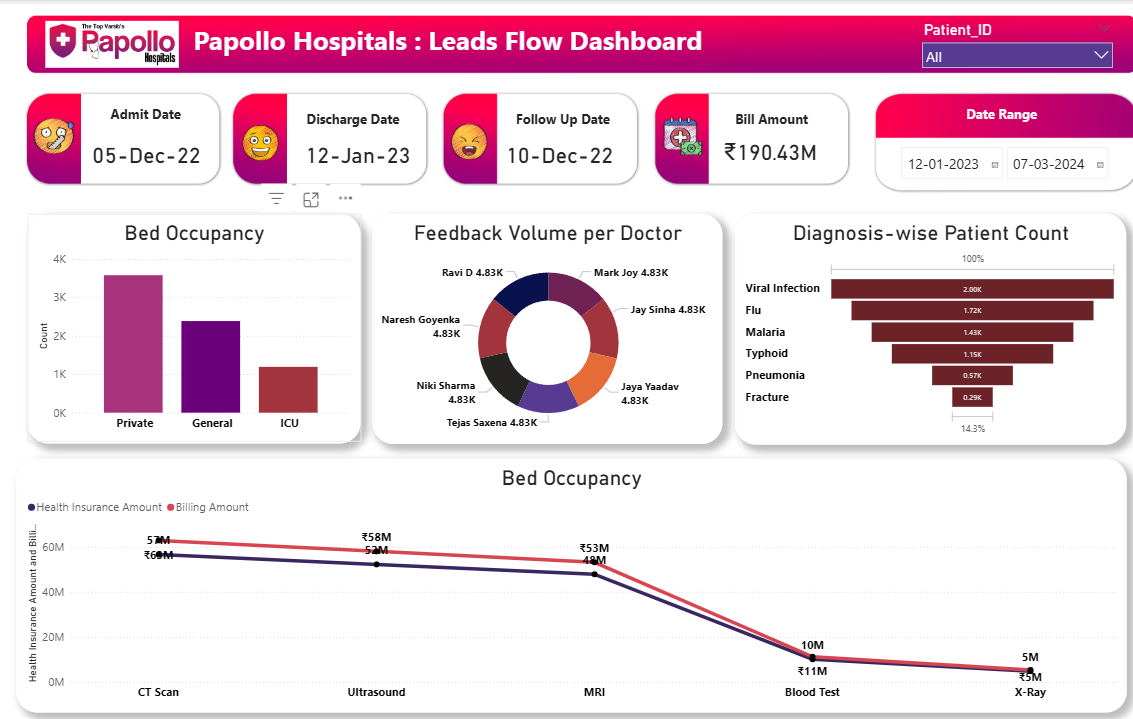

This screenshot's page, from the dashboard's own definition file:
{"tool":"powerbi","page":{"name":"Page 2","canvas":[1680,1050],"ordinal":0},"visuals":[{"type":"textbox","box":[280,27.1,755.7,74.3],"z":0},{"type":"image","box":[2636.7,100,623.3,150],"z":1000},{"type":"slicer","fields":{"Values":["Sheet1.Patient_ID"]},"box":[2400,373.3,793.3,420],"z":2000},{"type":"card","fields":{"Values":["Min(Sheet1.Admit_Date)"]},"box":[437.6,198.8,162.9,42.8],"z":3000},{"type":"card","fields":{"Values":["Min(Sheet1.Discharge_Date)"]},"box":[129.8,198.8,172.6,42.8],"z":4000},{"type":"card","fields":{"Values":["Min(Sheet1.Followup Date)"]},"box":[724.3,198.6,167.1,42.9],"z":5000},{"type":"textbox","box":[152.9,145.7,127.1,57.1],"z":6000},{"type":"textbox","box":[437.1,151.4,151.4,37.1],"z":7000},{"type":"textbox","box":[732.9,151.4,158.6,37.1],"z":8000},{"type":"textbox","box":[1035.7,151.4,151.4,37.1],"z":9000},{"type":"card","fields":{"Values":["Sum(Sheet1.Billing Amount)"]},"box":[1031.4,194.3,158.6,42.9],"z":10000},{"type":"image","box":[50,157.1,68.6,74.3],"z":11000},{"type":"image","box":[348.6,172.9,62.9,62.9],"z":12000},{"type":"image","box":[640,171.4,77.1,62.9],"z":13000},{"type":"image","box":[951.4,158.6,65.7,71.4],"z":14000},{"type":"columnChart","title":"Bed Occupancy","fields":{"Category":["Sheet1.Bed_Occupancy"],"Y":["CountNonNull(Sheet1.Bed_Occupancy)"]},"box":[47.1,305.7,477.1,328.6],"z":15000},{"type":"donutChart","title":"Feedback Volume per Doctor","fields":{"Category":["Sheet1.Doctor"],"Y":["Sum(Sheet1.Feedback)"]},"box":[540.2,305.2,501,329.5],"z":16000},{"type":"funnel","title":"Diagnosis-wise Patient Count","fields":{"Category":["Sheet1.Diagnosis"],"Y":["CountNonNull(Sheet1.Diagnosis)"]},"box":[1060,305.7,560,330],"z":17000},{"type":"image","box":[30,24.3,274.3,77.1],"z":18000},{"type":"lineChart","title":"Bed Occupancy","fields":{"Y":["Sum(Sheet1.Health Insurance Amount)","Sum(Sheet1.Billing Amount)"],"Category":["Sheet1.Test"]},"box":[31.1,656.3,1589.5,363.3],"z":19000},{"type":"slicer","fields":{"Values":["Sheet1.Admit_Date"]},"box":[1284.3,201.2,360.6,68.9],"z":20000},{"type":"slicer","fields":{"Values":["Sheet1.Patient_ID"]},"box":[1317.1,24.3,292.9,82.9],"z":21000},{"type":"textbox","box":[1365.7,145.7,151.4,37.1],"z":22000}]}

Visuals, with their boxes in screenshot pixels (x1, y1, x2, y2), scaled from the page's 1680x1050 canvas onto the 1133x719 screenshot:
textbox: box(189, 19, 698, 69)
card - Min(Sheet1.Admit_Date): box(295, 136, 405, 165)
card - Min(Sheet1.Discharge_Date): box(88, 136, 204, 165)
card - Min(Sheet1.Followup Date): box(488, 136, 601, 165)
textbox: box(103, 100, 189, 139)
textbox: box(295, 104, 397, 129)
textbox: box(494, 104, 601, 129)
textbox: box(698, 104, 801, 129)
card - Sum(Sheet1.Billing Amount): box(696, 133, 803, 162)
image: box(34, 108, 80, 158)
image: box(235, 118, 278, 161)
image: box(432, 117, 484, 160)
image: box(642, 109, 686, 157)
"Bed Occupancy" columnChart: box(32, 209, 354, 434)
"Feedback Volume per Doctor" donutChart: box(364, 209, 702, 435)
"Diagnosis-wise Patient Count" funnel: box(715, 209, 1093, 435)
image: box(20, 17, 205, 69)
"Bed Occupancy" lineChart: box(21, 449, 1093, 698)
slicer - Sheet1.Admit_Date: box(866, 138, 1109, 185)
slicer - Sheet1.Patient_ID: box(888, 17, 1086, 73)
textbox: box(921, 100, 1023, 125)
